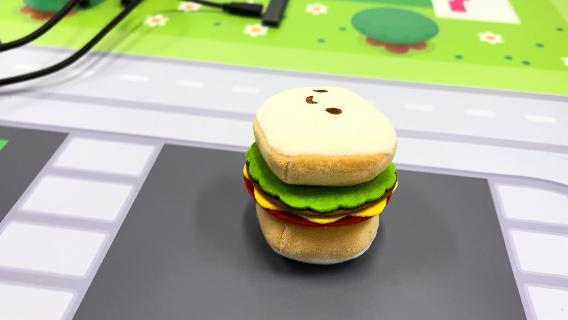sandwich: (240, 83, 401, 267)
